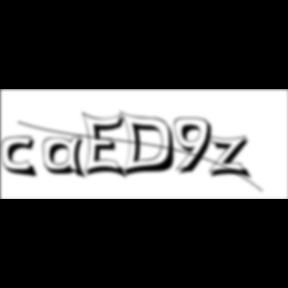9: (174, 117, 220, 177)
D: (120, 110, 182, 180)
E: (82, 110, 130, 182)
a: (43, 135, 91, 182)
c: (2, 136, 42, 180)
z: (208, 134, 256, 182)
